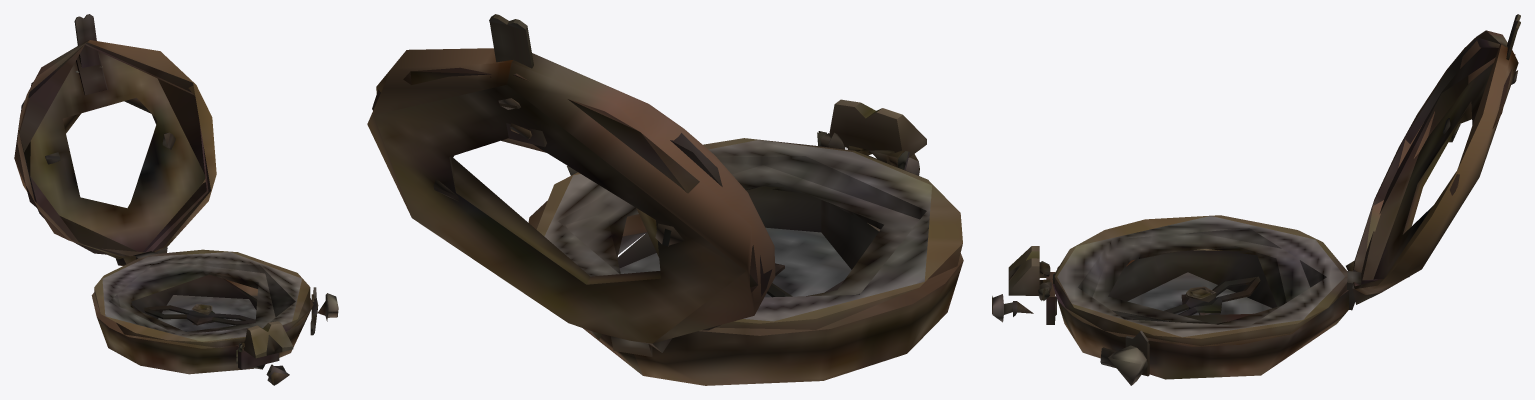
File: design-seadogs-compass.glb
3 views of the same model, side by side, from view 1: azimuth 30°, elevation 25°; view 2: azimuth 150°, elevation 25°; view 3: azimuth 270°, elevation 25° (orthographic). The views are drawn at different scales.
Parts seen in each view (by area): view 1: seadogs_compass; view 2: seadogs_compass; view 3: seadogs_compass.
Boxes of the visible parts, bbox=[...] form: seadogs_compass: bbox=[14, 14, 338, 385]; seadogs_compass: bbox=[367, 14, 963, 385]; seadogs_compass: bbox=[992, 14, 1520, 385].
Bounding box in the file's own units: 0.0809 × 0.0856 × 0.1334.
Materials: 1 (1 with a texture image).
